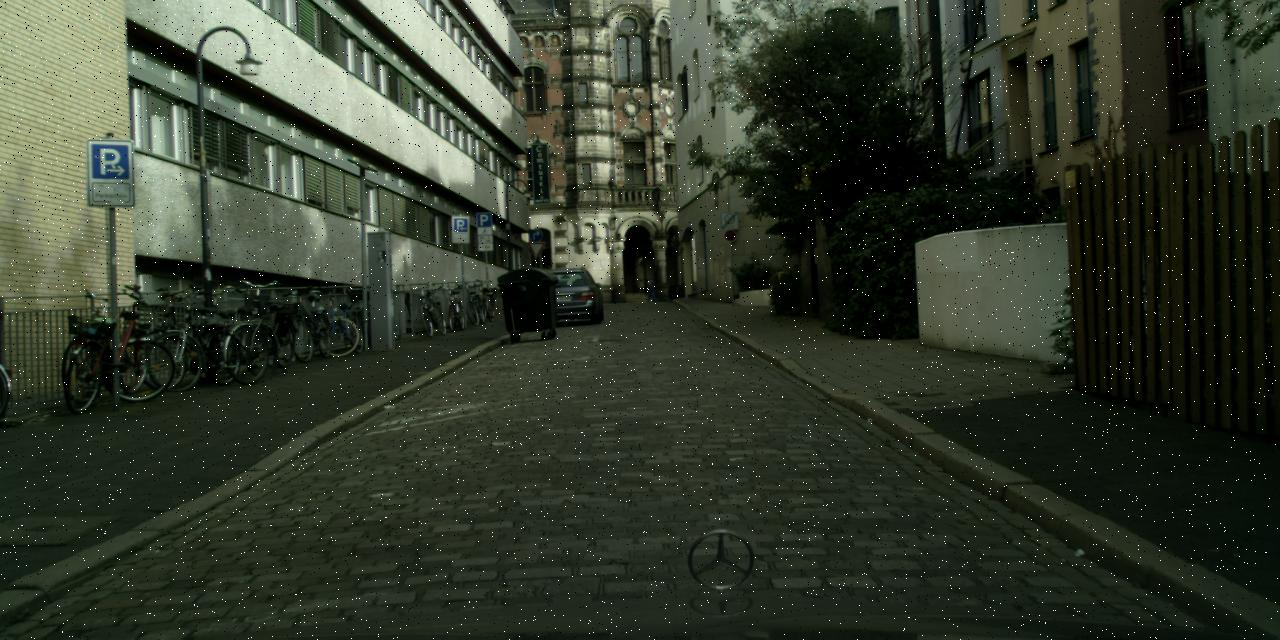ped: (646, 279, 654, 301)
